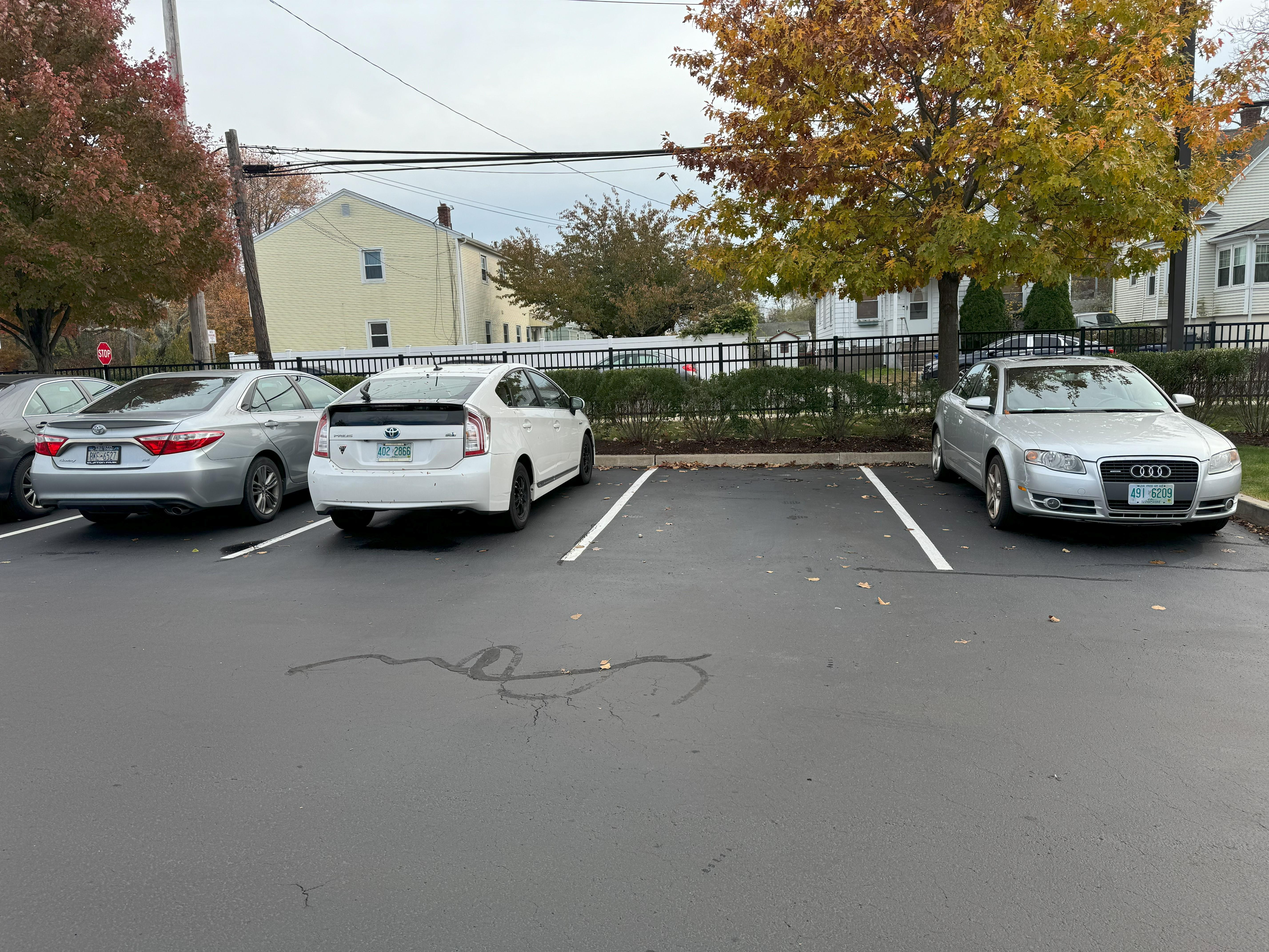empty: (647, 472, 885, 577)
occupied: (914, 345, 1250, 554), (311, 345, 601, 563), (38, 347, 299, 570)
